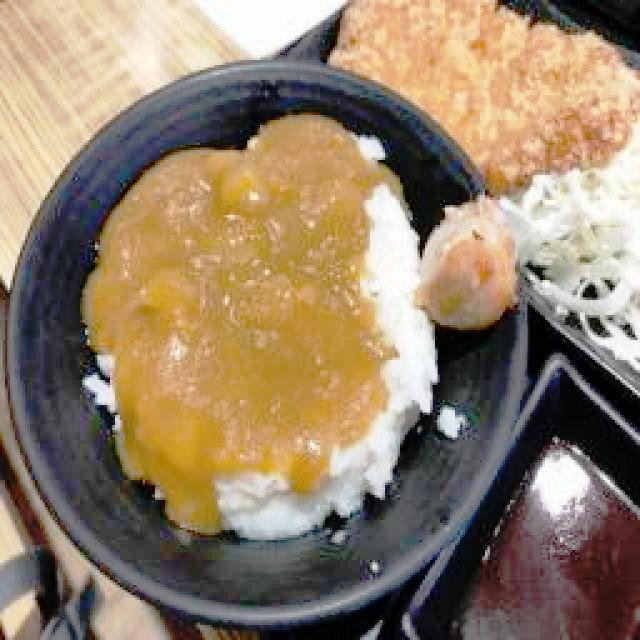curry: (87, 118, 398, 536)
rice: (364, 186, 436, 436), (222, 473, 392, 541), (337, 416, 401, 514)
